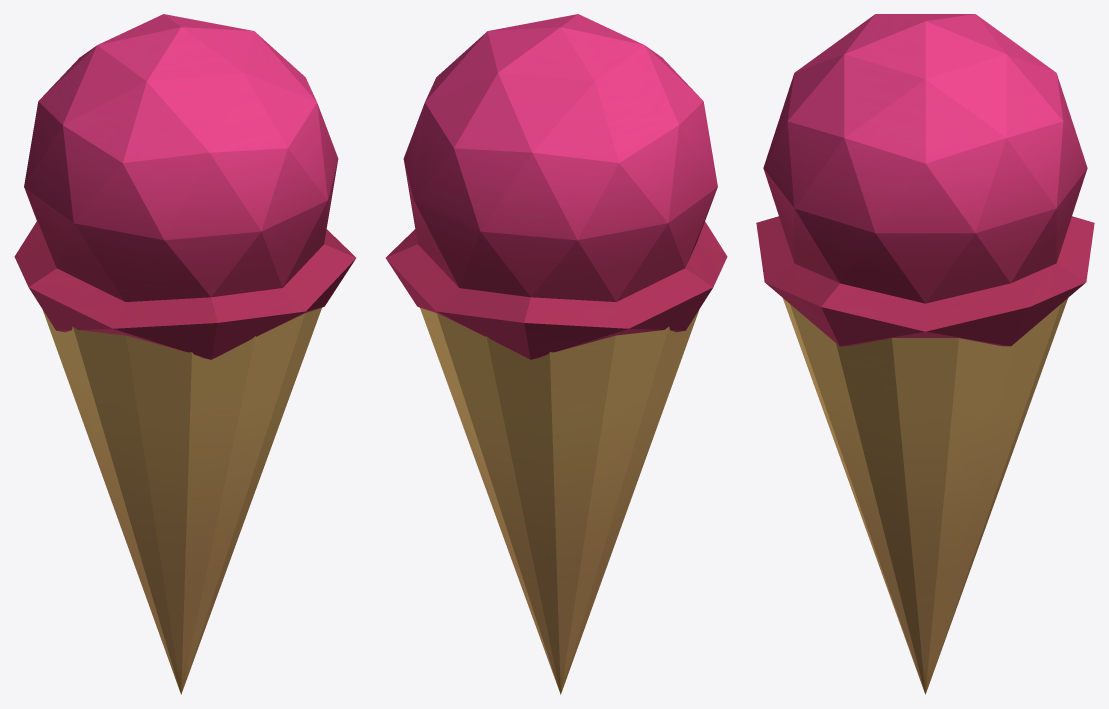
File: Icecream.glb
3 renders of one model, left to right at view 1: azimuth 30°, elevation 25°; view 2: azimuth 150°, elevation 25°; view 3: azimuth 270°, elevation 25°, orthographic.
Parts seen in each view (by area): view 1: Icecream; view 2: Icecream; view 3: Icecream.
Boxes of the visible parts, bbox=[...] form: Icecream: bbox=[14, 14, 356, 694]; Icecream: bbox=[385, 14, 727, 694]; Icecream: bbox=[756, 14, 1094, 694].
Bounding box in the file's own units: 0.8542 × 1.83 × 0.8327.
Materials: 1 (1 with a texture image).
